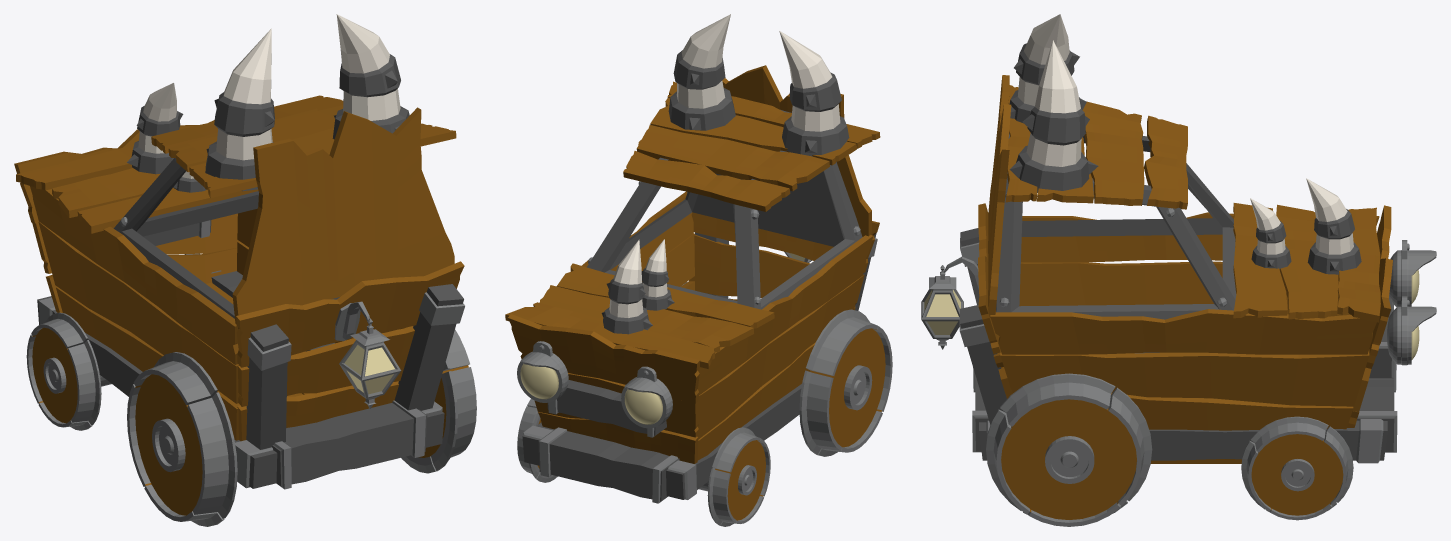
The model's file is CartCar1.fbx.
3 views of the same model, side by side, from view 1: azimuth 30°, elevation 25°; view 2: azimuth 150°, elevation 25°; view 3: azimuth 270°, elevation 25° (orthographic). The views are drawn at different scales.
Visible parts, largest first — view 1: Cube.071, wheel.005, Cube.079, Cube.053, Cube.052, Cube.044, Horn.002, wheel.006, Frame, Horn.003, Cube.056, Cube.055 (+23 smaller); view 2: Frame, wheel.005, Cube.050, Cube.073, Cube.069, Cube.052, Cube.053, Horn.002, Horn.003, wheel.006, Cube.067, Cube.066 (+22 smaller); view 3: wheel.001, Cube.047, Cube.048, Frame, wheel.007, Cube.052, Horn.003, Cube.046, Cube.069, Cube.053, Cube.060, Cube.066 (+21 smaller).
Part boxes in pixels (x1,y1,x2,y2): Cube.071: (232,107,454,329); wheel.005: (127,352,237,526); Cube.079: (272,400,427,489); Cube.053: (30,186,238,364); Cube.052: (38,221,239,403); Cube.044: (236,261,464,367); Horn.002: (205,28,274,191); wheel.006: (26,312,101,430); Frame: (114,158,339,318); Horn.003: (332,14,409,139); Cube.056: (394,284,464,410); Cube.055: (246,324,291,449); Frame: (587,109,862,309); wheel.005: (799,309,892,456); Cube.050: (508,314,700,403); Cube.073: (538,427,679,503); Cube.069: (636,125,829,191); Cube.052: (696,276,862,439); Cube.053: (698,235,873,395); Horn.002: (779,31,849,156); Horn.003: (668,14,735,130); wheel.006: (707,427,770,526); Cube.067: (623,151,790,211); Cube.066: (540,285,753,352); wheel.001: (986,373,1152,526); Cube.047: (990,309,1376,354); Cube.048: (1000,351,1369,406); Frame: (996,133,1236,319); wheel.007: (1241,416,1353,520); Cube.052: (1019,261,1350,315); Horn.003: (1009,40,1098,192); Cube.046: (1111,393,1353,459); Cube.069: (1082,101,1144,205); Cube.053: (1021,212,1379,262); Cube.060: (979,419,1387,463); Cube.066: (1276,204,1338,319).
Bounding box in the file's own units: 149 × 249 × 260.
